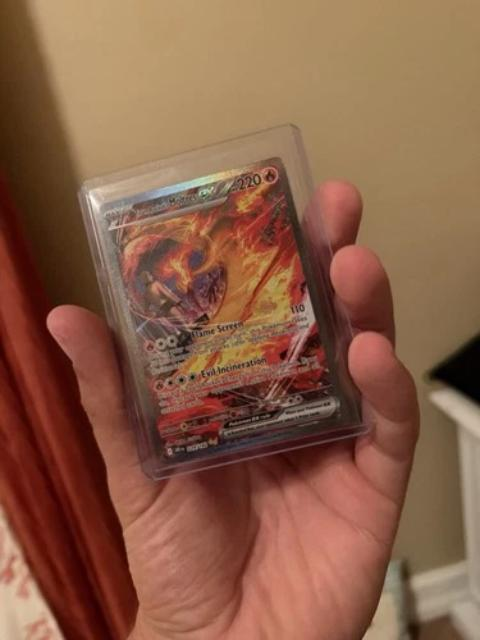Card: (93, 153, 354, 470)
Name: (127, 180, 224, 224)
